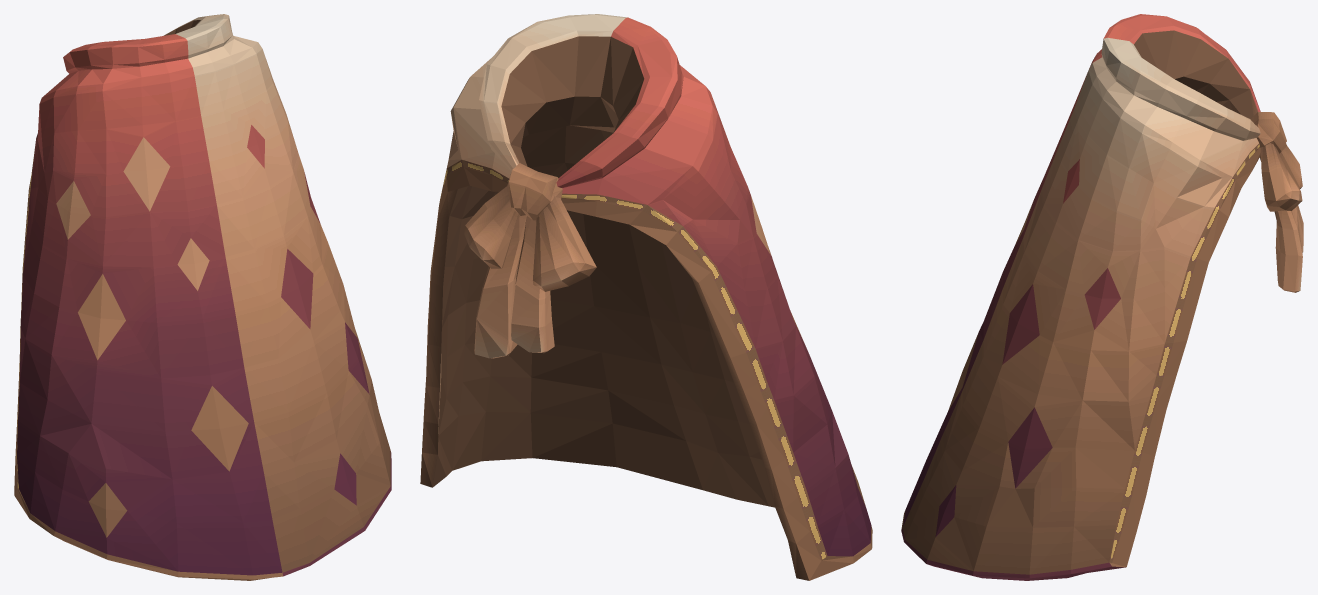
Rendered from CharSkyKid_Wing_AP14Jester_01.glb.
The picture shows the model from 3 angles, left to right: view 1: azimuth 30°, elevation 25°; view 2: azimuth 150°, elevation 25°; view 3: azimuth 270°, elevation 25°; orthographic projection. The views are drawn at different scales.
Visible parts, largest first — view 1: CharSkyKid_Wing_AP14Jester_01; view 2: CharSkyKid_Wing_AP14Jester_01; view 3: CharSkyKid_Wing_AP14Jester_01.
Boxes of the visible parts, x1=… form: CharSkyKid_Wing_AP14Jester_01: x1=14, y1=14, x2=391, y2=580; CharSkyKid_Wing_AP14Jester_01: x1=420, y1=14, x2=872, y2=580; CharSkyKid_Wing_AP14Jester_01: x1=901, y1=14, x2=1303, y2=580.
Bounding box in the file's own units: 5.35 × 6.93 × 5.09.
Materials: 1 (1 with a texture image).
